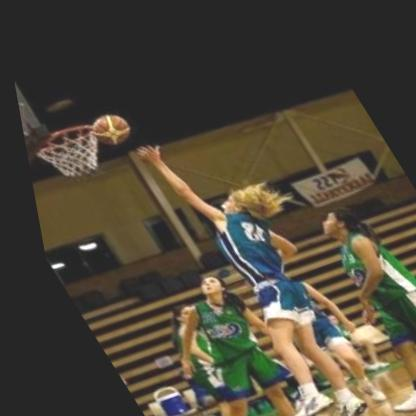basketball: (78, 97, 140, 154)
